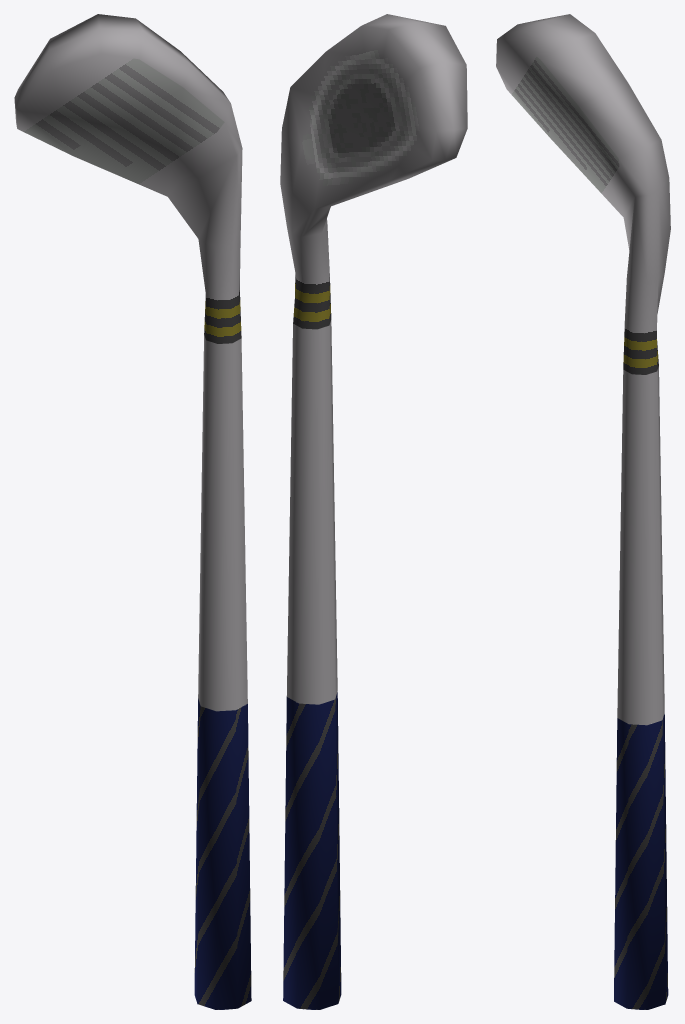
Rendered from glf_culb_L__glf_club_IR_L.glb.
3 views of the same model, side by side, from view 1: azimuth 30°, elevation 25°; view 2: azimuth 150°, elevation 25°; view 3: azimuth 330°, elevation 25° (orthographic). The views are drawn at different scales.
Parts seen in each view (by area): view 1: polygon1, polygon0; view 2: polygon1, polygon0; view 3: polygon1, polygon0.
Part boxes in pixels (bbox=[...]): polygon1: bbox=[14, 14, 247, 711]; polygon0: bbox=[194, 698, 251, 1009]; polygon1: bbox=[280, 14, 467, 704]; polygon0: bbox=[283, 692, 341, 1009]; polygon1: bbox=[496, 14, 670, 725]; polygon0: bbox=[614, 714, 668, 1009].
Bounding box in the file's own units: 1.74 × 8.13 × 0.8494.
2 materials, 2 textured.
